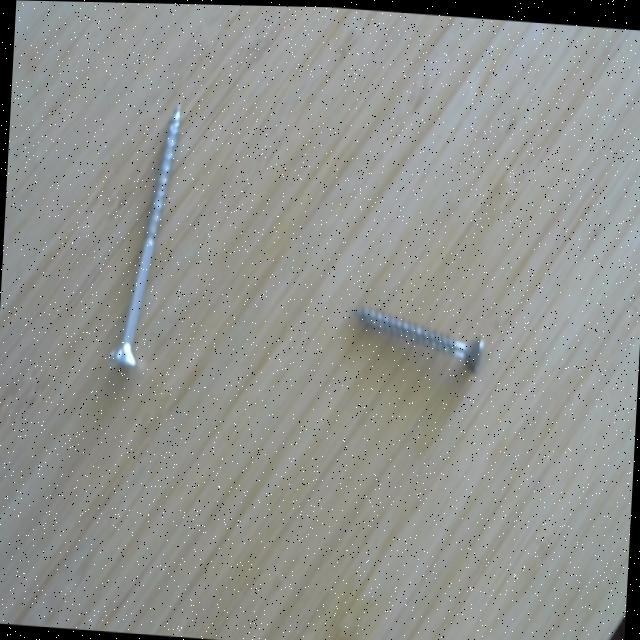Black screw: (353, 281, 493, 381)
Long screw: (102, 90, 213, 380)
